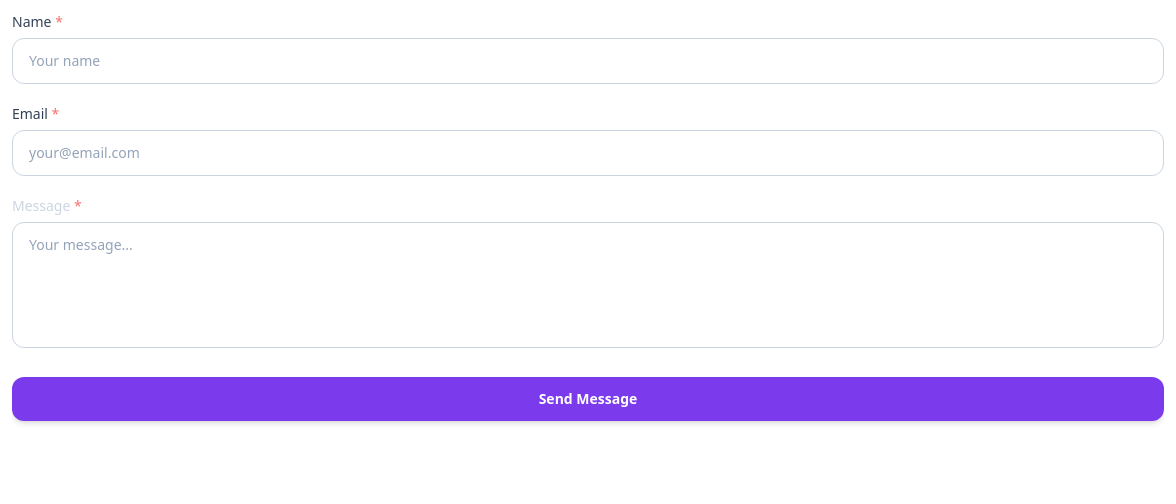
Scenario: Contact form end-to-end integration › shows success message within 3 seconds after valid form submission
# Fill in all required fields
Type "Anmol Sharma" into the field labelled "Name *" at (588, 61), box [12,38,1164,84]
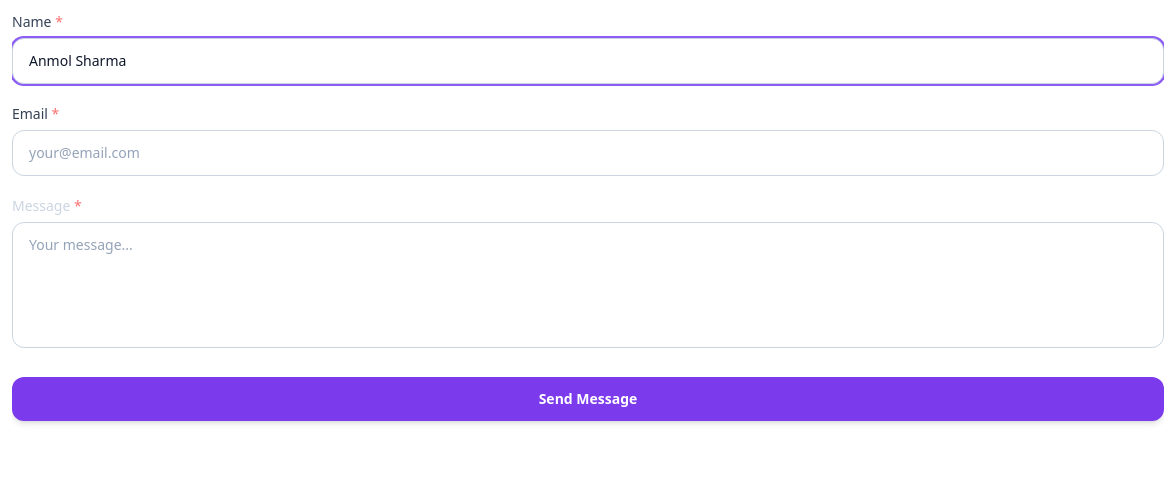
Type "anmol@example.com" into the field labelled "Email *" at (588, 153), box [12,130,1164,176]
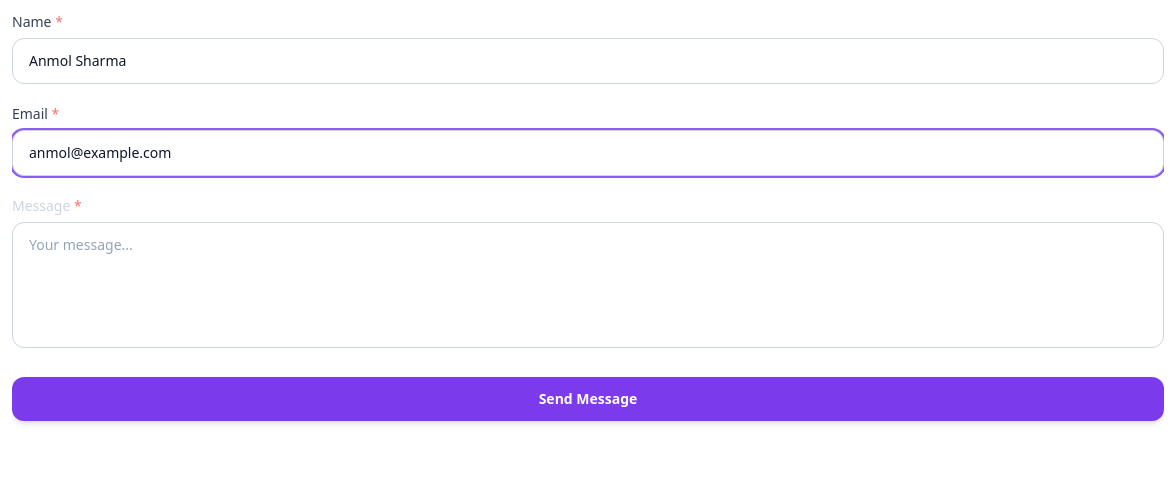
Type "Hello, I would like to connect!" into the text box labelled "Message *" at (588, 285), box [12,222,1164,348]
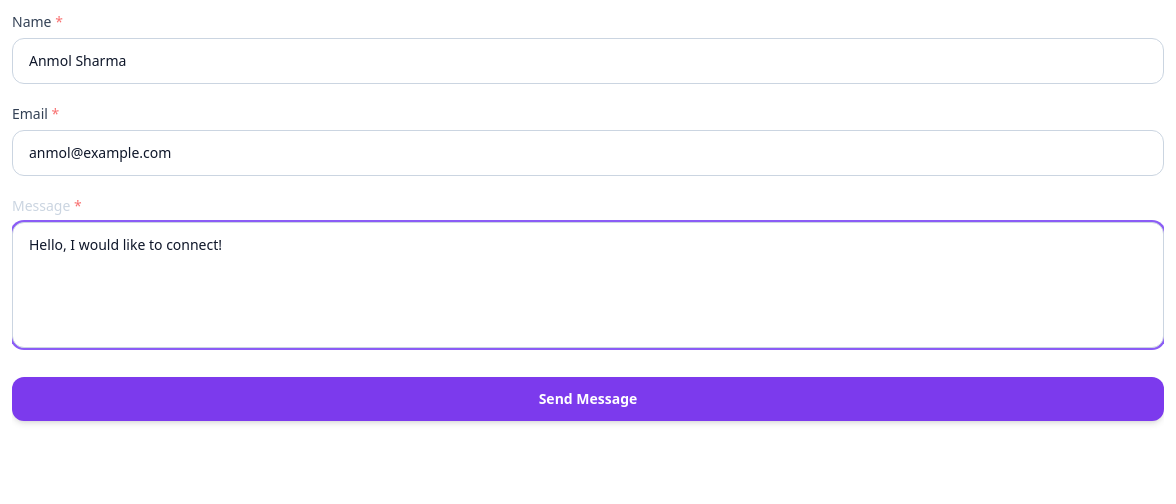
# Submit the form
Click the button "Send Message" at (588, 399), box [12,377,1164,421]
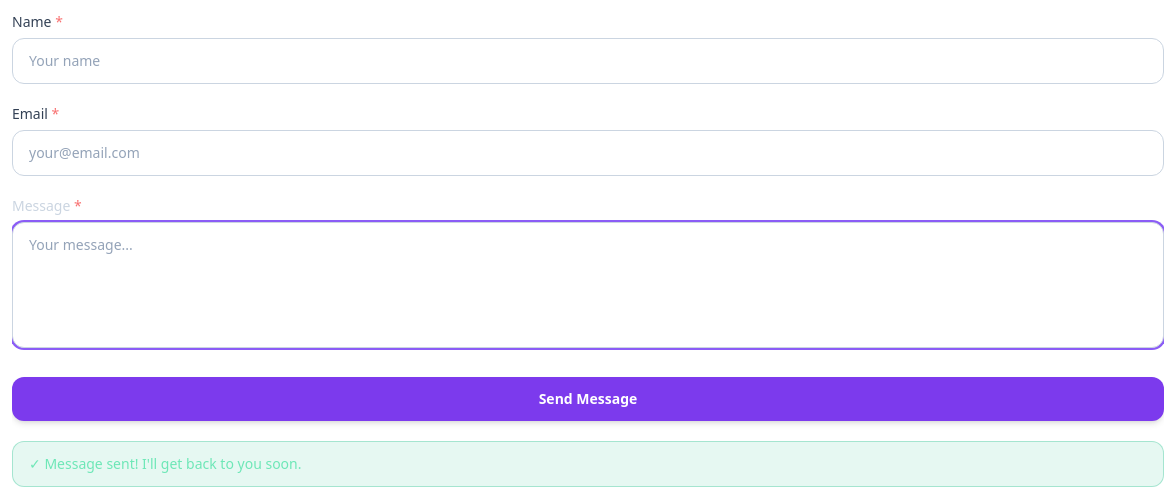
Now the text "✓ Message sent! I'll get back to you soon." is shown, box [12,441,1164,487]
